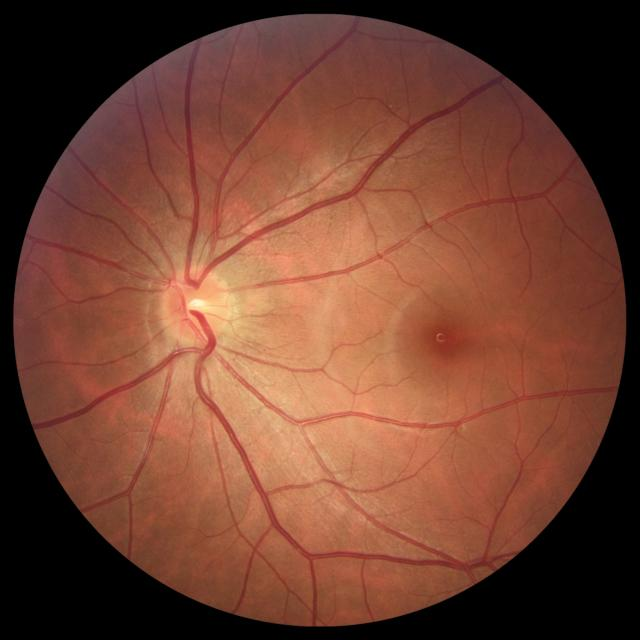OC: (182, 294, 214, 324)
OD: (159, 266, 232, 346)
